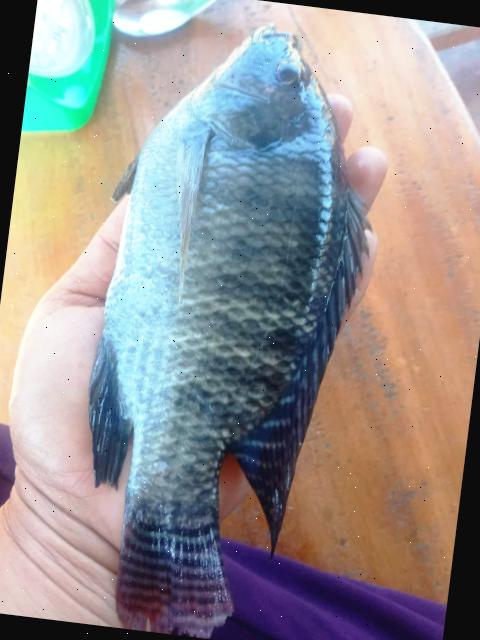Healthy Fish: (90, 26, 370, 638)
